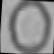no answer: (2, 0, 51, 54)
